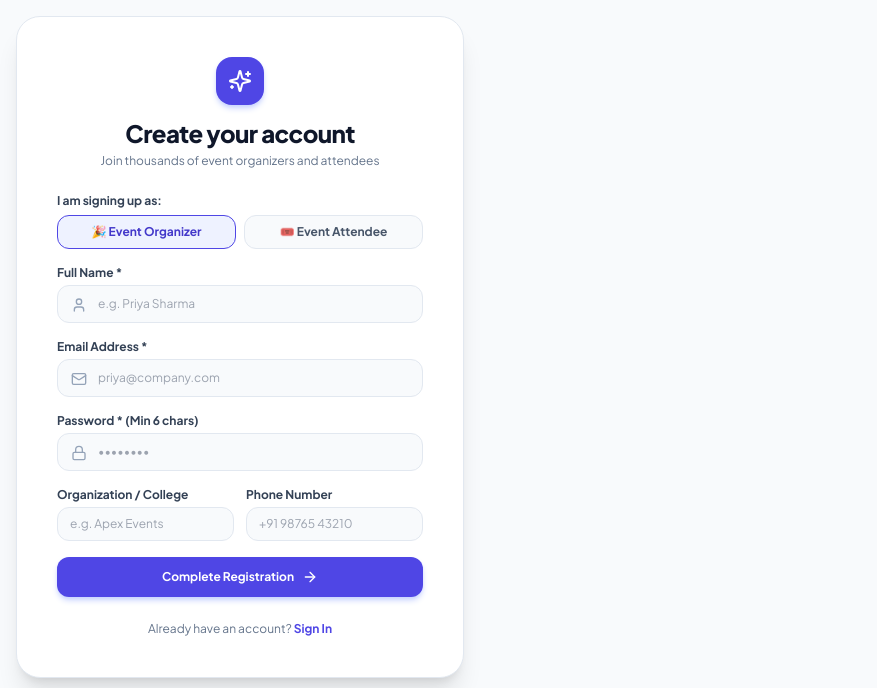
Test: Login/Register Form Validation › enforces password length validation (minimum 6 characters) on Register
Type "Priya Sharma" into the field with placeholder "e.g. Priya Sharma". click: coordinates (240, 304)
box: [57, 285, 423, 323]
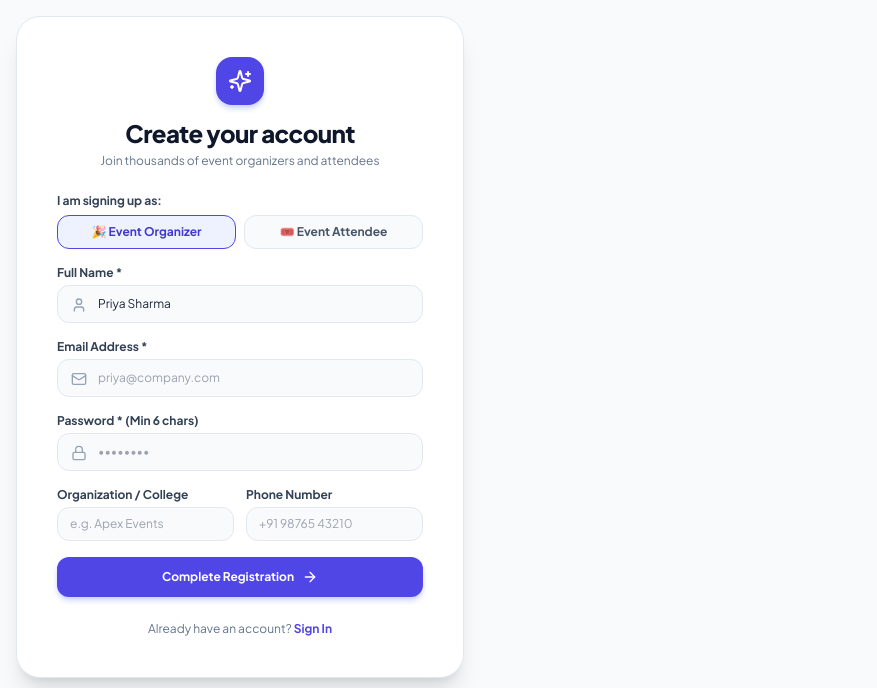
Type "priya@example.com" into the field with placeholder "priya@company.com". click: coordinates (240, 378)
box: [57, 359, 423, 397]
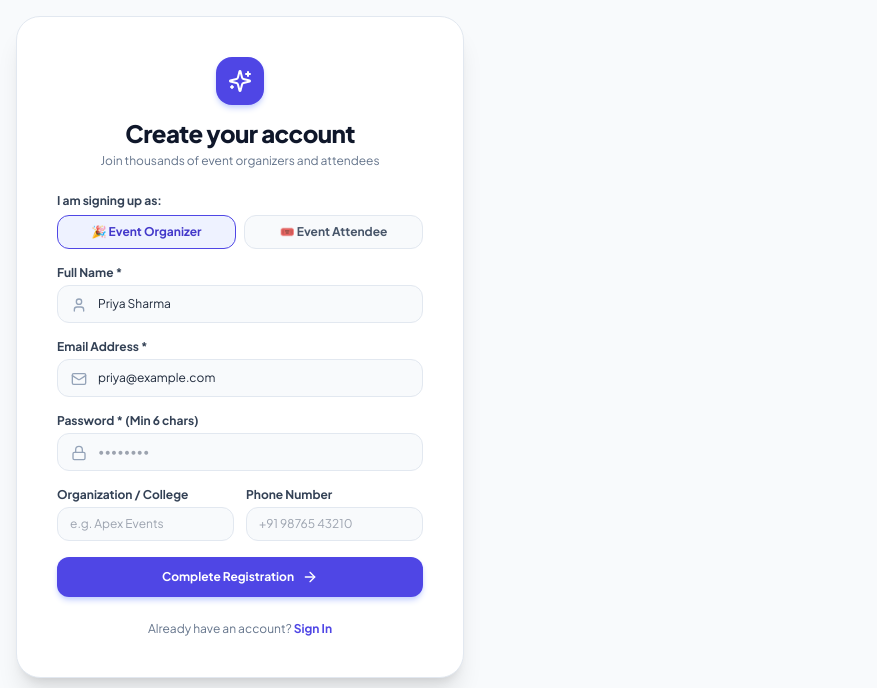
Type "12345" into the password field with placeholder "••••••••". click: coordinates (240, 452)
box: [57, 433, 423, 471]
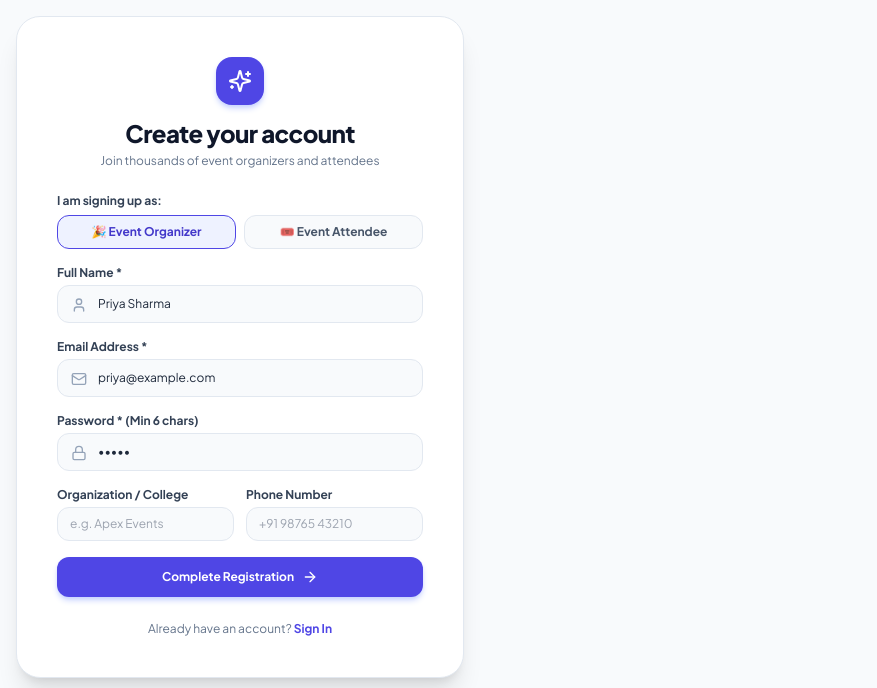
Submit the form named "complete registration", box [57, 193, 423, 597]
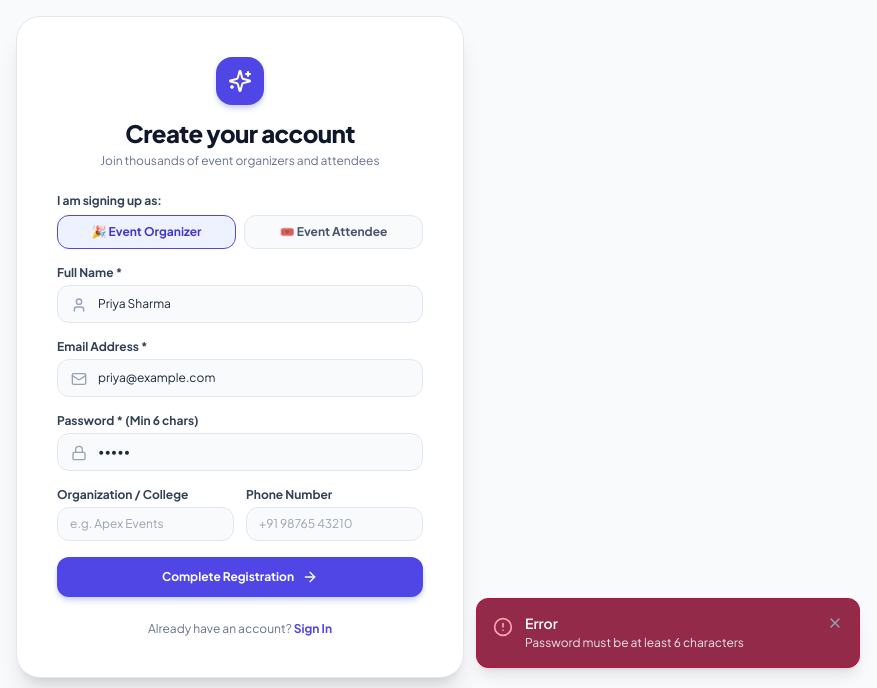
Now the text "Password must be at least 6 characters" is shown, box [525, 634, 744, 650]
